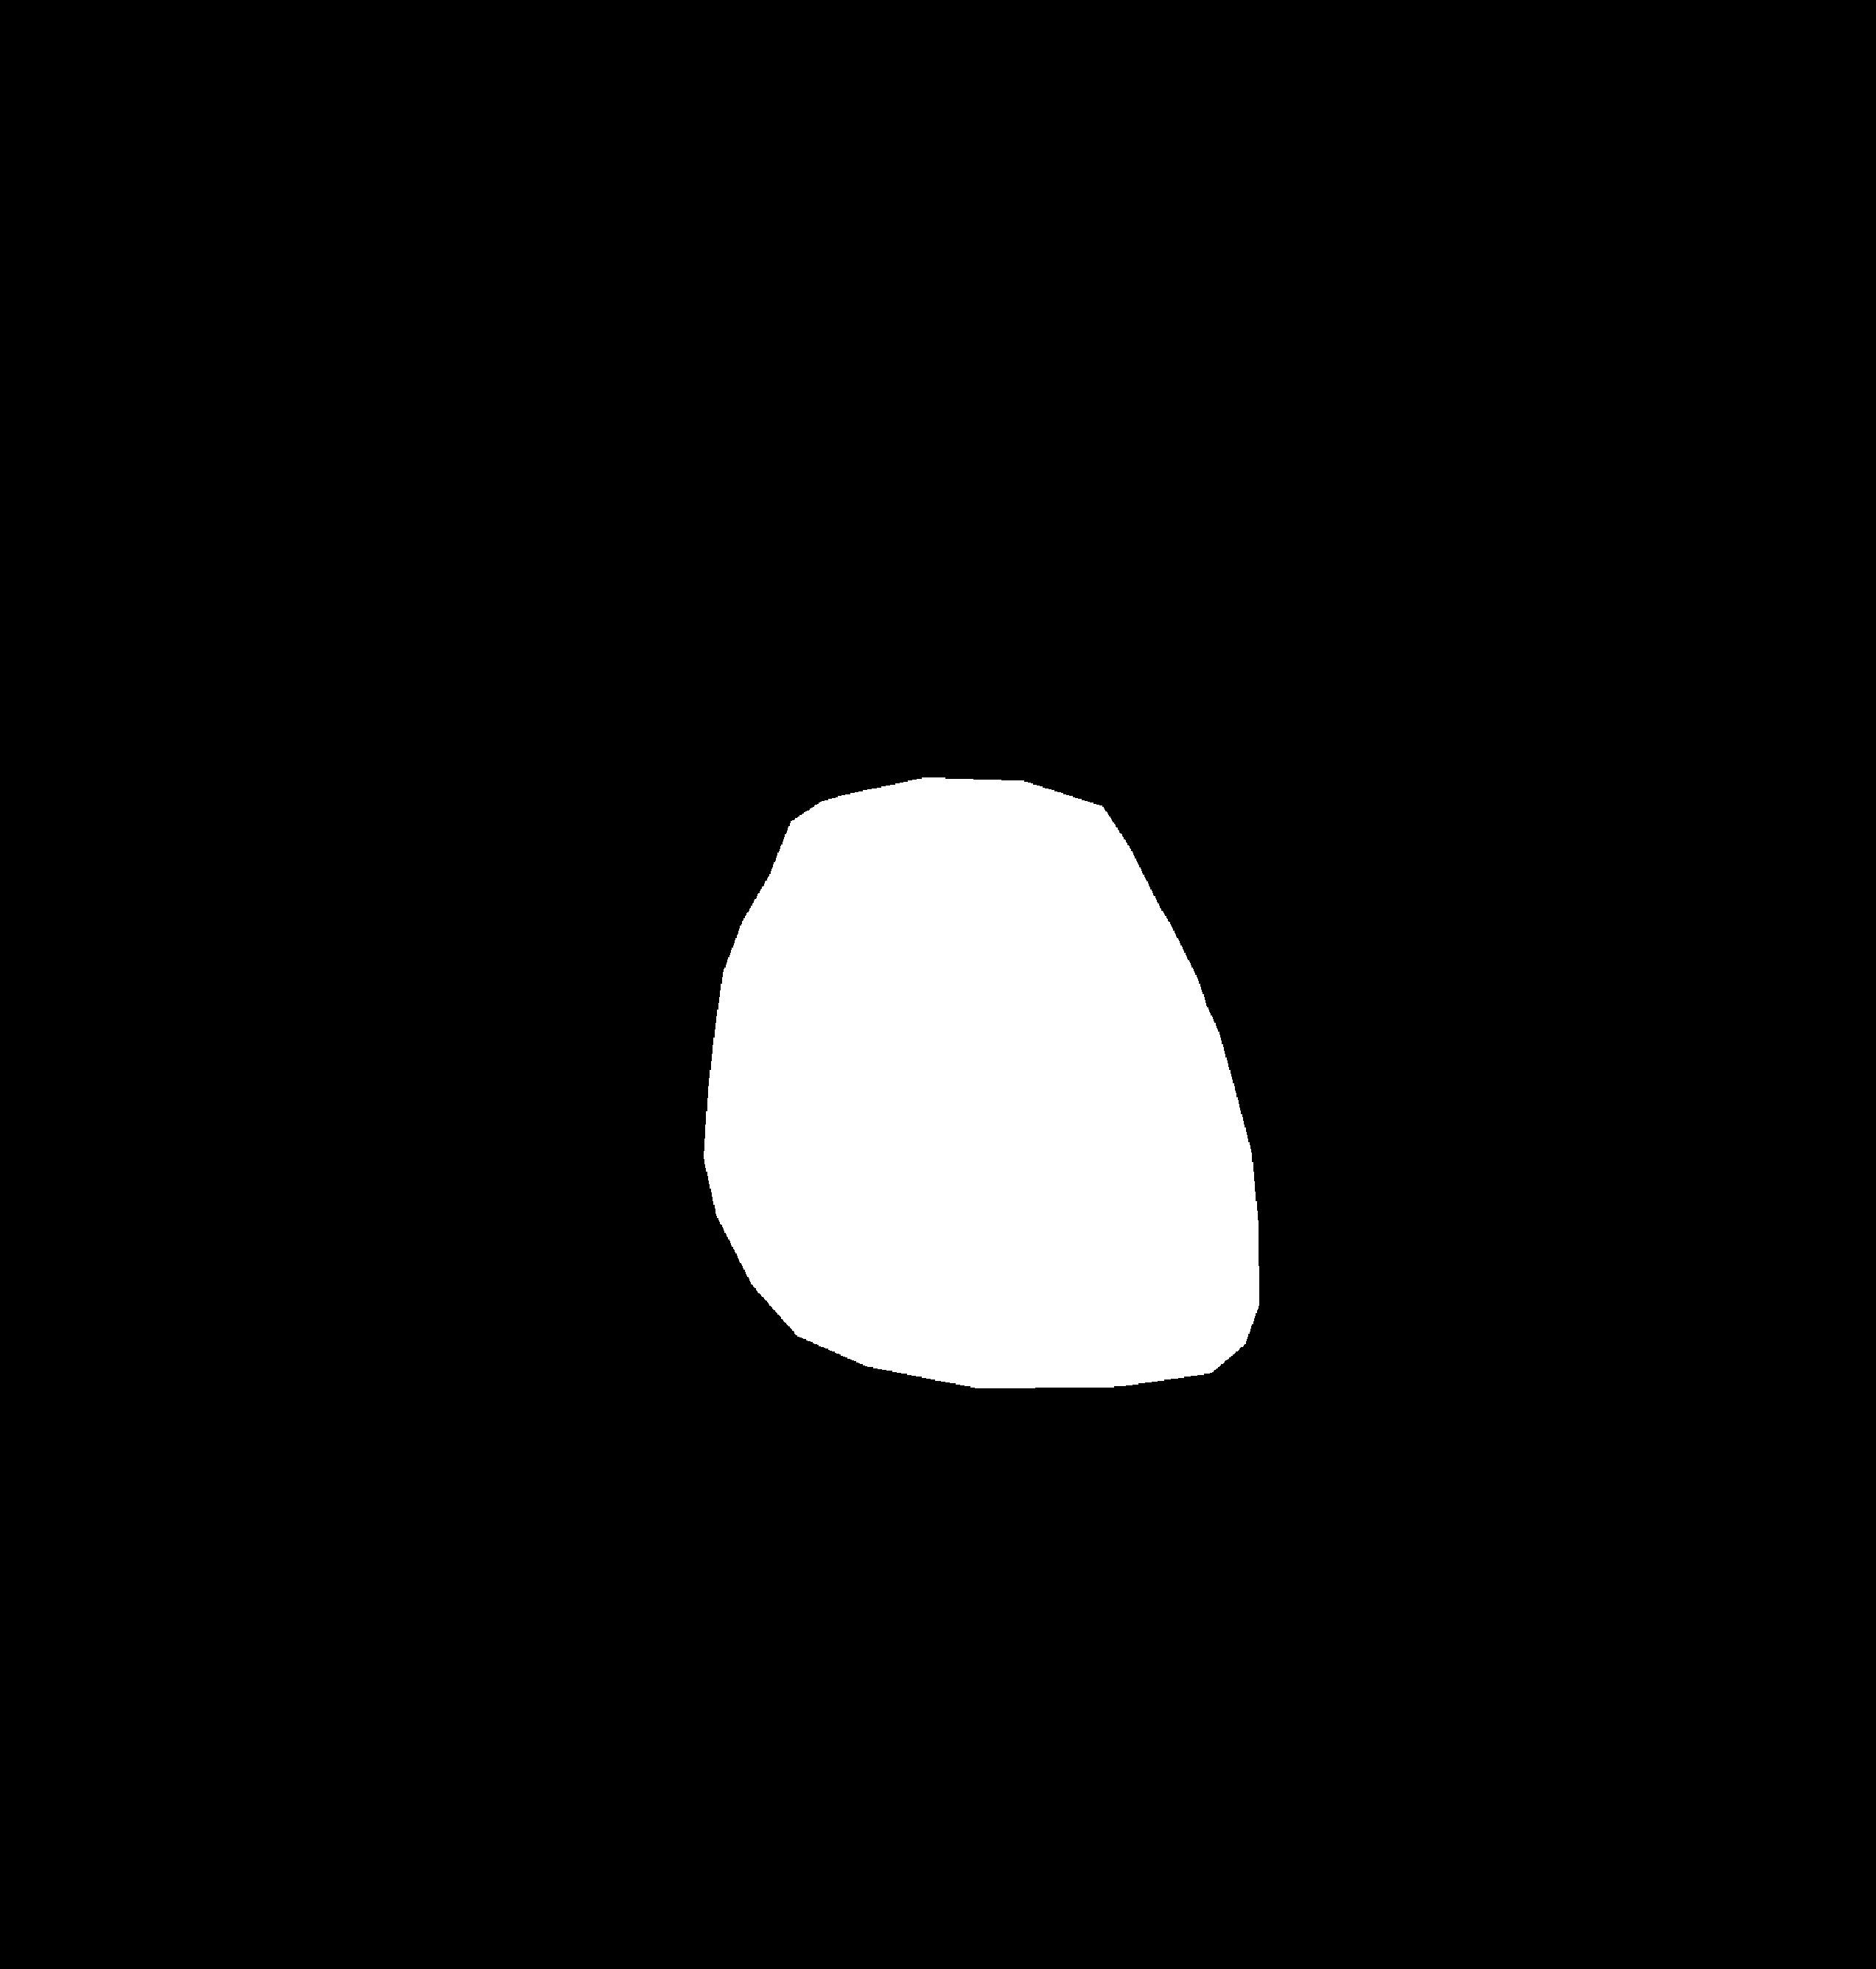heart: (705, 839, 1254, 1426)
left_lung: (278, 128, 863, 1565)
right_lung: (1029, 121, 1540, 1554)
